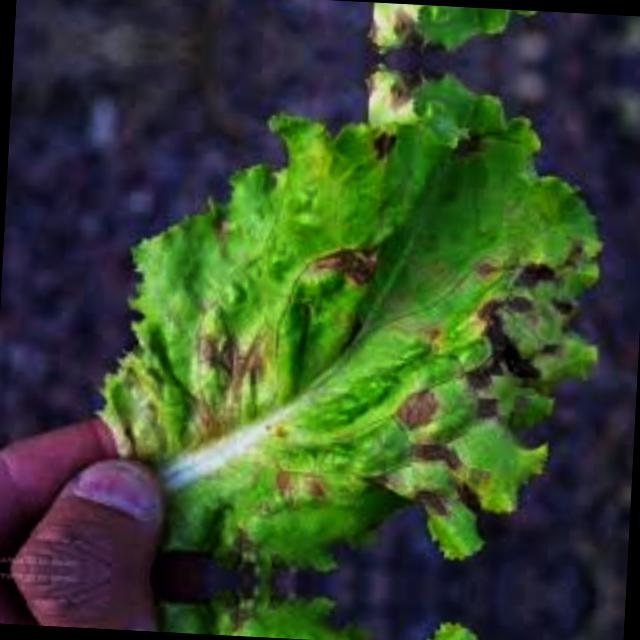Lettuce - Anthracnose: (67, 48, 638, 594), (63, 575, 610, 640), (94, 0, 640, 65)
